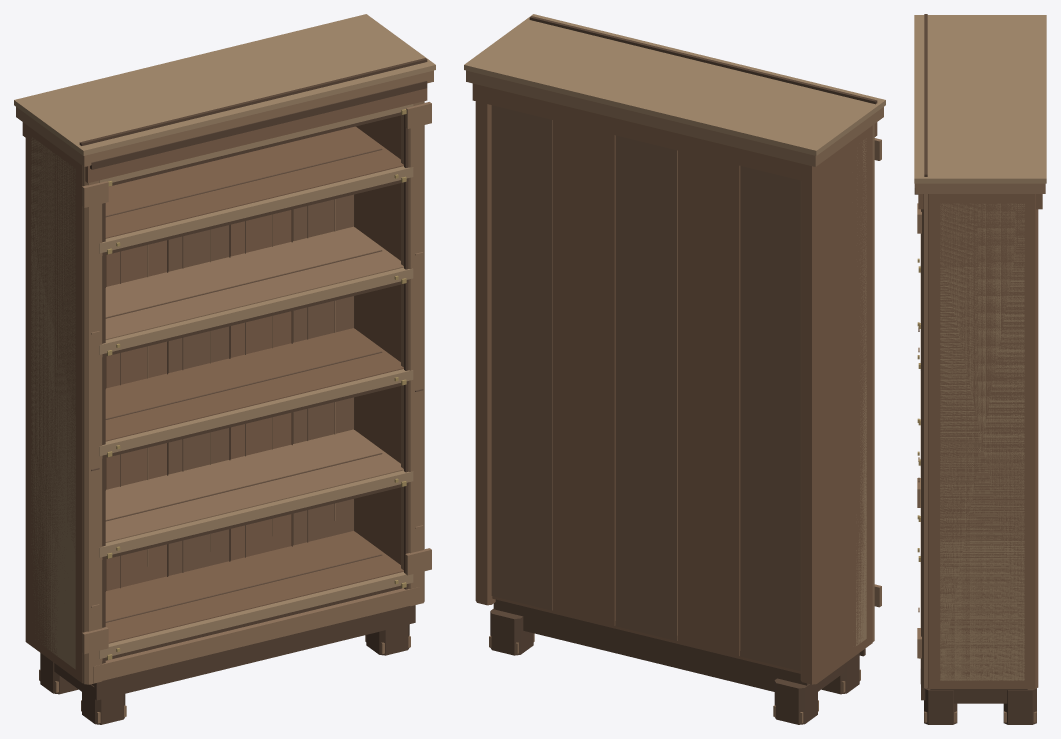
Rendered from Bookcase001.glb.
3 views of the same model, side by side, from view 1: azimuth 30°, elevation 25°; view 2: azimuth 150°, elevation 25°; view 3: azimuth 270°, elevation 25° (orthographic). The views are drawn at different scales.
Visible parts, largest first — view 1: Bookcase001; view 2: Bookcase001; view 3: Bookcase001.
Part boxes in pixels (x1,y1,x2,y2): Bookcase001: [14, 14, 435, 724]; Bookcase001: [464, 14, 885, 724]; Bookcase001: [914, 14, 1046, 724].
Size of the model in its own units: 1.22 by 1.93 by 0.415.
